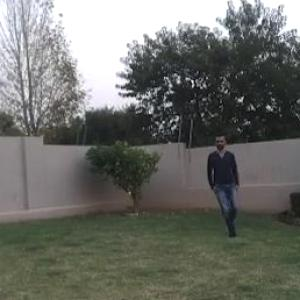follow: (207, 129, 243, 243)
